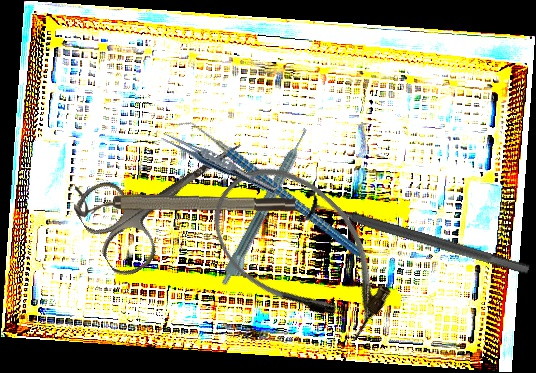Cannula: (190, 142, 415, 361)
Chopper: (171, 74, 364, 303)
Fixation Ring: (297, 188, 534, 288), (73, 186, 296, 225)
Handpiece: (218, 126, 318, 291)
Iris Scissors: (68, 106, 268, 283)
Tissue Forceps: (158, 129, 279, 197)
